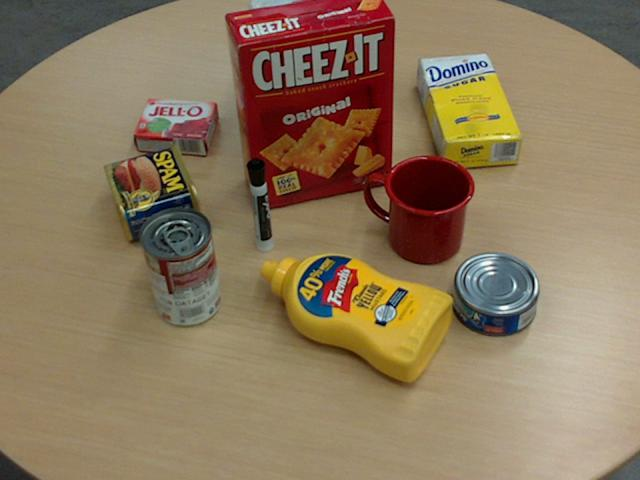cracker_box: (224, 0, 395, 208)
gelatin_box: (131, 96, 217, 154)
large_marker: (246, 158, 273, 253)
master_chef_can: (249, 0, 337, 126)
mug: (365, 154, 474, 263)
mustard_bottle: (259, 253, 452, 381)
potted_meat_can: (104, 141, 203, 240)
sugar_box: (417, 53, 523, 169)
tomato_soup_can: (137, 205, 220, 325)
tuna_fish_can: (452, 252, 540, 336)
